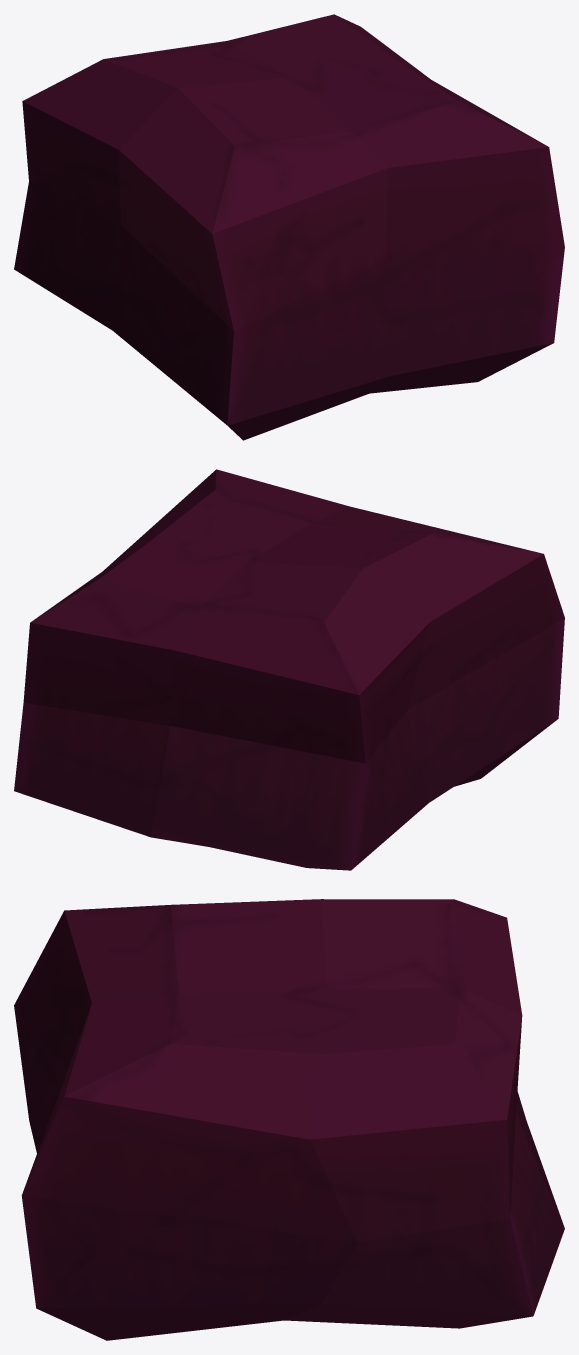
File: GDW Rock Asset 3.fbx
3 renders of one model, top to bottom at view 1: azimuth 30°, elevation 25°; view 2: azimuth 150°, elevation 25°; view 3: azimuth 270°, elevation 25°, orthographic. The views are drawn at different scales.
Parts seen in each view (by area): view 1: Cube; view 2: Cube; view 3: Cube.
Boxes of the visible parts, x1,y1,x2,y2 form: Cube: (14, 14, 564, 440); Cube: (14, 469, 564, 870); Cube: (14, 899, 564, 1340).
Bounding box in the file's own units: 247 × 186 × 287.
Materials: 1 (1 with a texture image).
